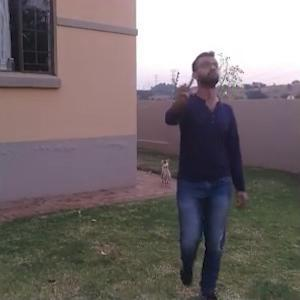takeoff-hand: (169, 70, 195, 105)
